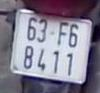1: (65, 50, 73, 78), (53, 48, 59, 75)
3: (36, 15, 49, 46)
4: (36, 47, 47, 75)
6: (25, 14, 37, 42), (67, 21, 79, 49)
8: (21, 42, 35, 73)
F: (56, 20, 66, 44)
